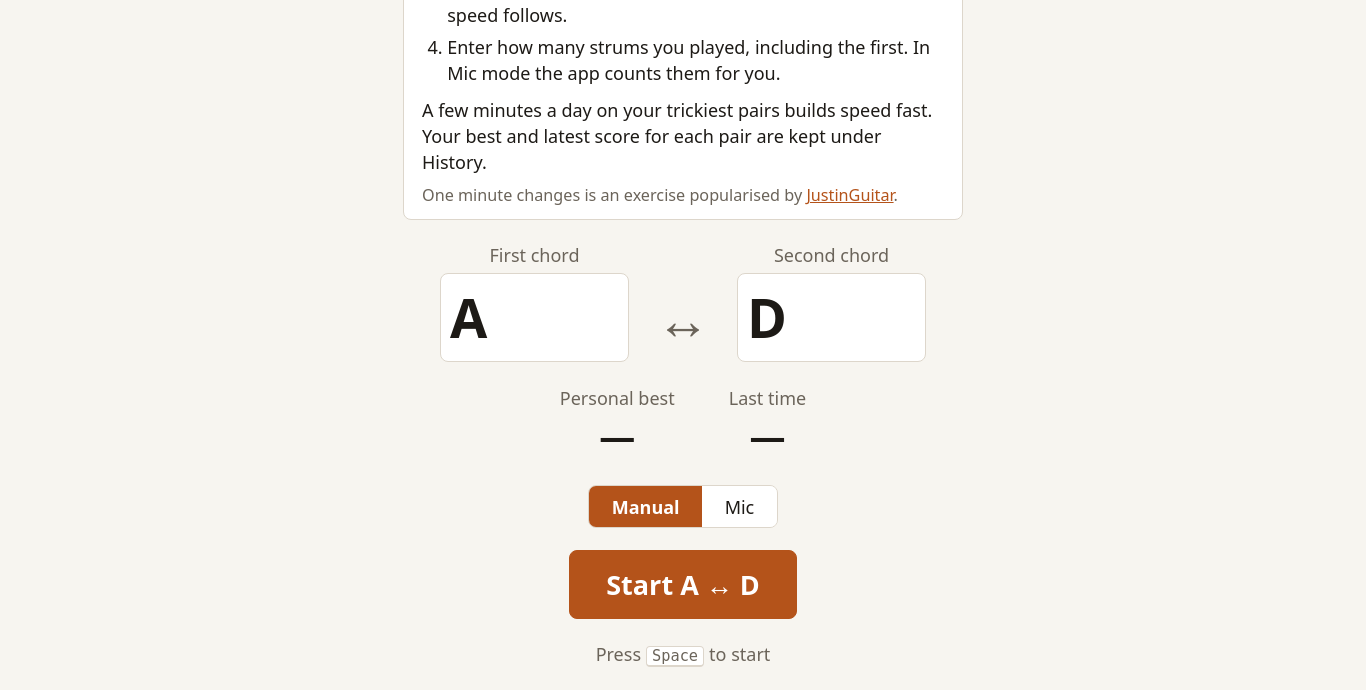
Test: selecting Mic asks the input controller to open the microphone
(page scrolled)
Click the radio button labelled "Mic".
click(739, 507)  # box [702, 486, 777, 527]
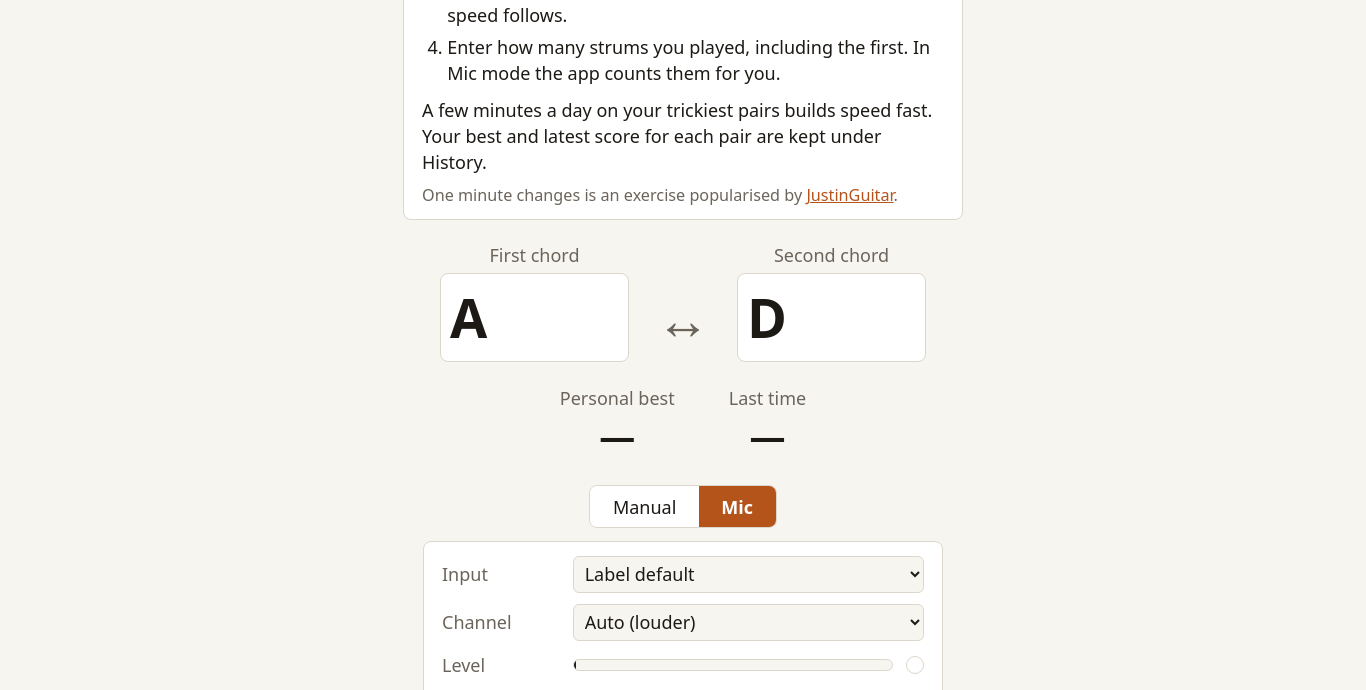
Check: the dropdown labelled "Input" is shown, box [572, 556, 924, 593]
